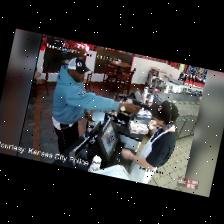person: (53, 58, 141, 154), (122, 101, 178, 183)
